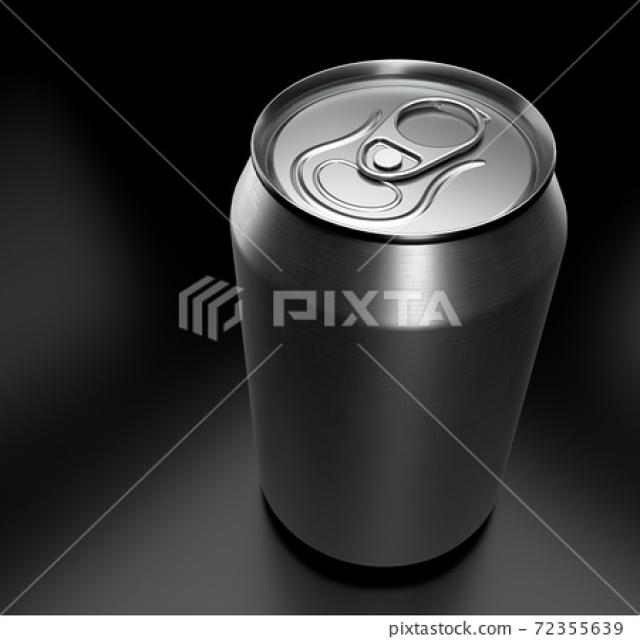can: (223, 42, 573, 587)
